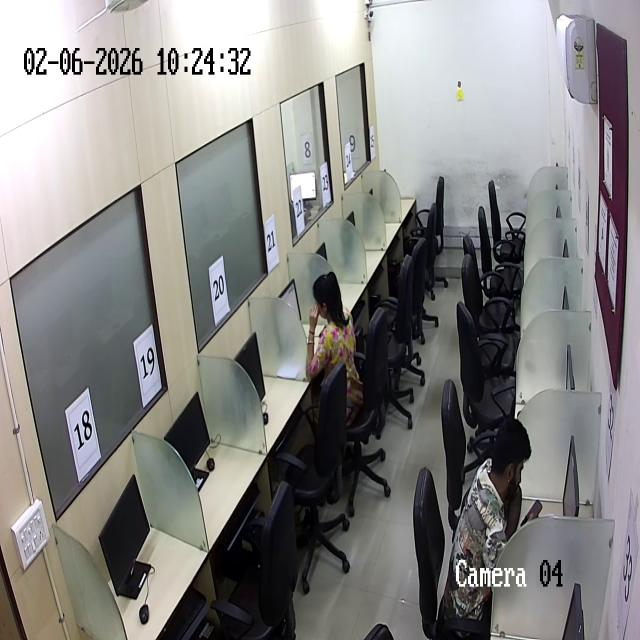phone: (519, 491, 543, 528)
